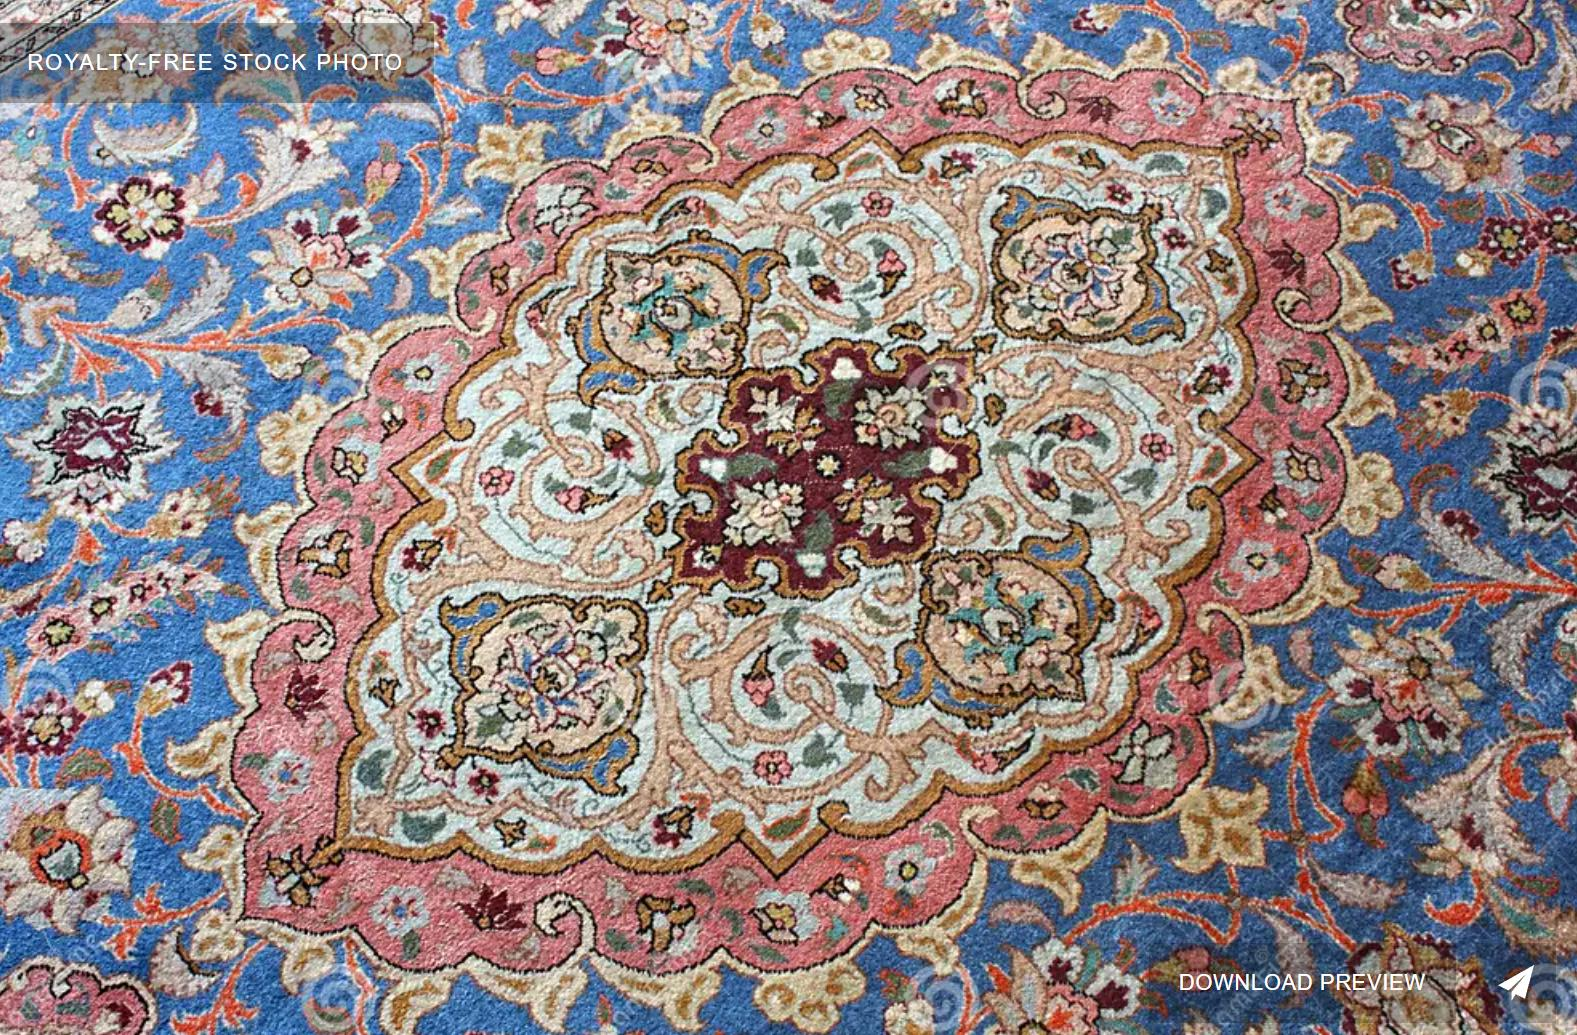carpet: (0, 3, 1577, 1032)
